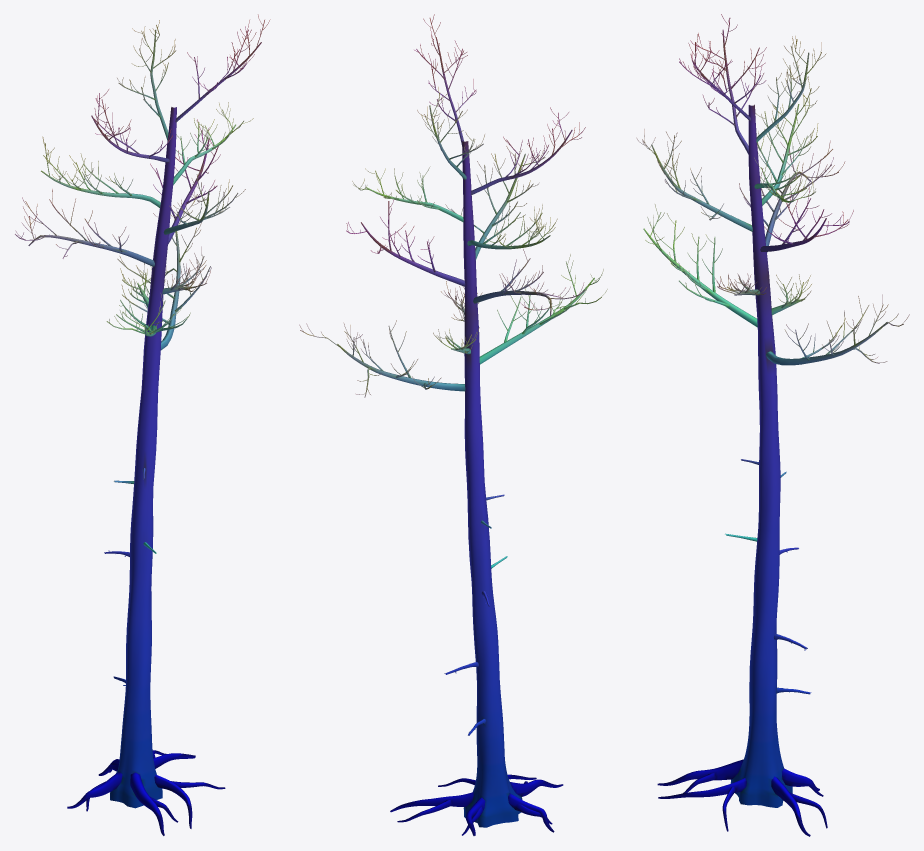
Rendered from pine-elder.glb.
3 views of the same model, side by side, from view 1: azimuth 30°, elevation 25°; view 2: azimuth 150°, elevation 25°; view 3: azimuth 270°, elevation 25° (orthographic). The views are drawn at different scales.
Visible parts, largest first — view 1: bark; view 2: bark; view 3: bark.
Part boxes in pixels (left/top/right/bottom): bark: left=15, top=14, right=270, bottom=835; bark: left=299, top=14, right=607, bottom=835; bark: left=636, top=14, right=909, bottom=836.
Bounding box in the file's own units: 9.45 × 29.48 × 9.02.
